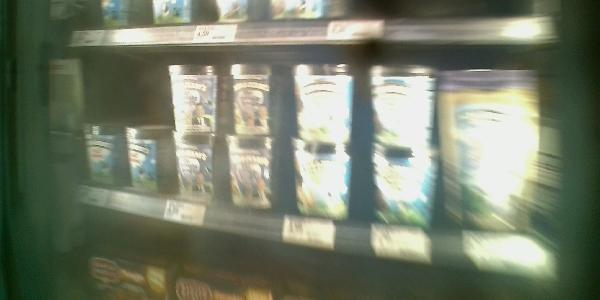icecream1: (438, 67, 542, 239), (286, 55, 360, 144), (365, 60, 436, 149), (367, 148, 439, 235), (287, 144, 359, 226), (163, 57, 222, 136), (221, 132, 278, 211), (225, 57, 279, 134), (124, 116, 172, 195), (170, 128, 220, 199), (78, 118, 126, 188)
